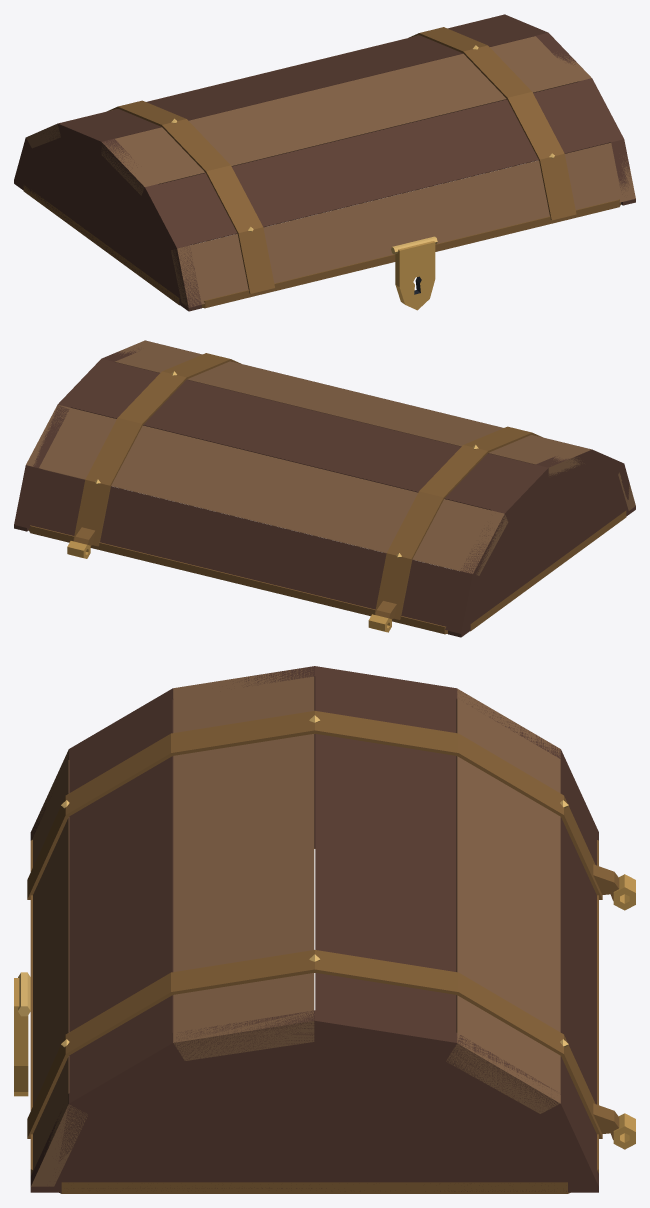
The model's file is wooden_lid.glb.
3 renders of one model, top to bottom at view 1: azimuth 30°, elevation 25°; view 2: azimuth 150°, elevation 25°; view 3: azimuth 270°, elevation 25°, orthographic. The views are drawn at different scales.
Parts seen in each view (by area): view 1: SM_Magic_Chest_Lid; view 2: SM_Magic_Chest_Lid; view 3: SM_Magic_Chest_Lid.
Part boxes in pixels (<box>): SM_Magic_Chest_Lid: <box>14,14,635,311</box>; SM_Magic_Chest_Lid: <box>14,340,635,637</box>; SM_Magic_Chest_Lid: <box>14,666,635,1193</box>.
Bounding box in the file's own units: 0.65 × 0.2235 × 0.4817.
Materials: 2 (2 with a texture image).
